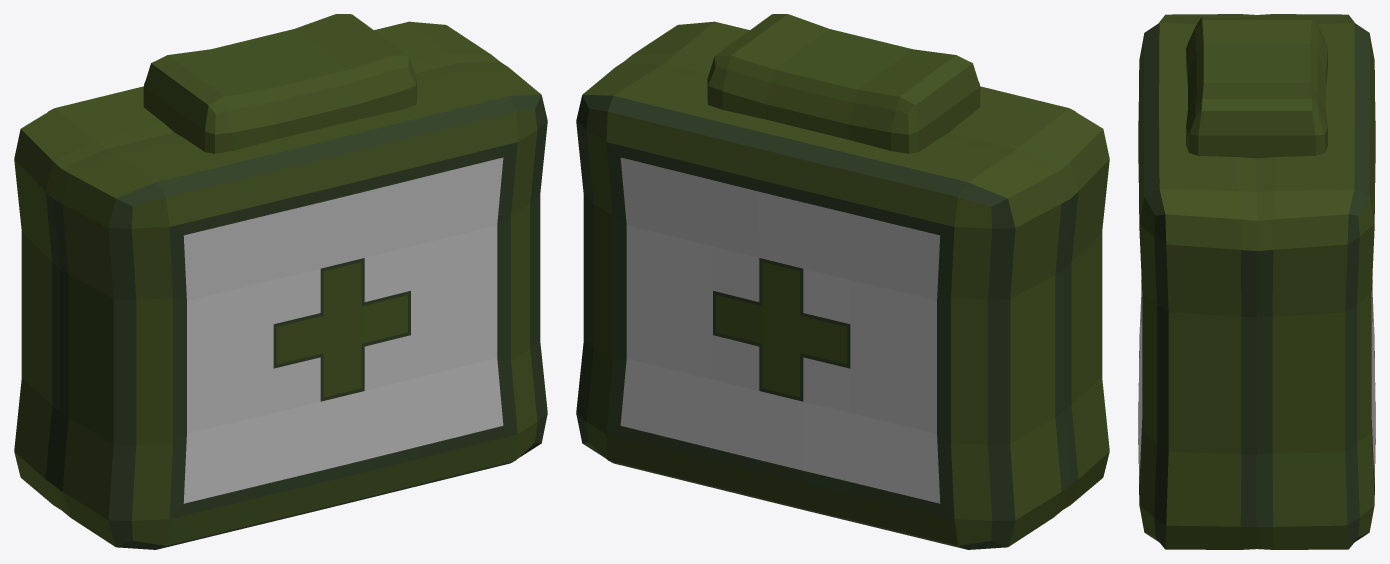
File: first_aid_kit.glb
The picture shows the model from 3 angles, left to right: view 1: azimuth 30°, elevation 25°; view 2: azimuth 150°, elevation 25°; view 3: azimuth 270°, elevation 25°; orthographic projection. The views are drawn at different scales.
Parts seen in each view (by area): view 1: FirstAidKit; view 2: FirstAidKit; view 3: FirstAidKit.
Boxes of the visible parts, bbox=[...] form: FirstAidKit: bbox=[14, 14, 547, 549]; FirstAidKit: bbox=[576, 14, 1109, 549]; FirstAidKit: bbox=[1138, 14, 1375, 549].
Size of the model in its own units: 1.56 by 1.36 by 0.7333.
